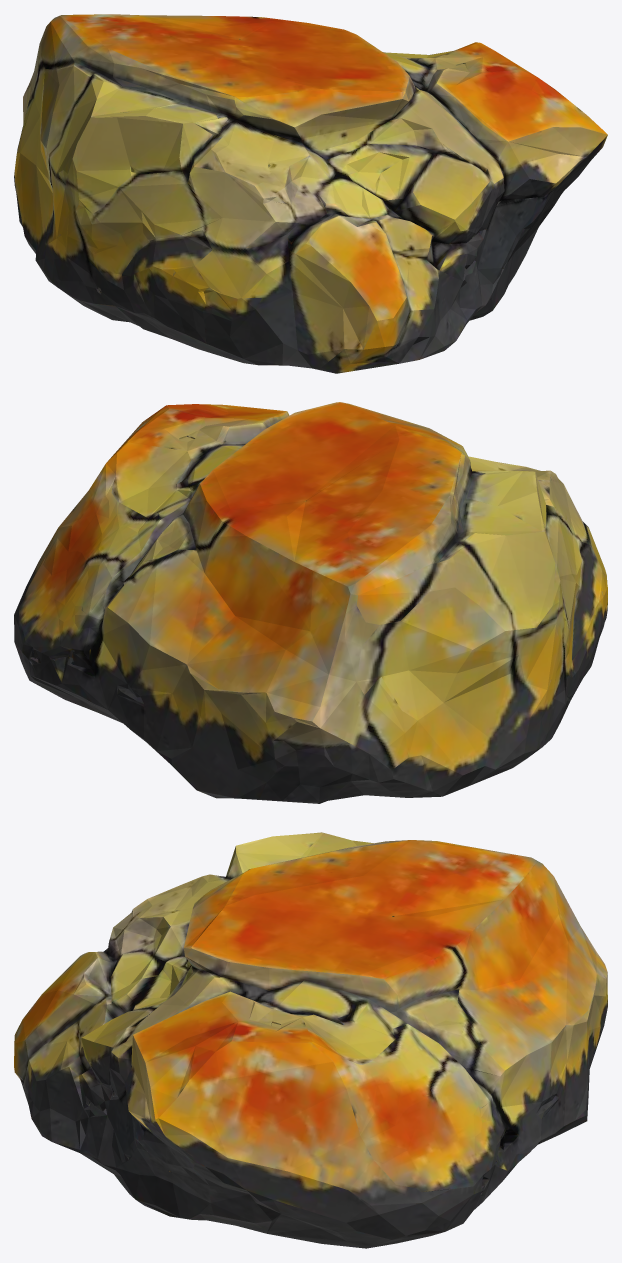
The model's file is volcanic_sulfur_crust_01.glb.
The picture shows the model from 3 angles, top to bottom: view 1: azimuth 30°, elevation 25°; view 2: azimuth 150°, elevation 25°; view 3: azimuth 270°, elevation 25°; orthographic projection. The views are drawn at different scales.
Visible parts, largest first — view 1: geometry_0; view 2: geometry_0; view 3: geometry_0.
Boxes of the visible parts, x1,y1,x2,y2 form: geometry_0: (14, 14, 607, 373); geometry_0: (14, 402, 607, 803); geometry_0: (14, 832, 607, 1248).
Bounding box in the file's own units: 0.9368 × 0.4453 × 0.9989.
Materials: 1 (1 with a texture image).
